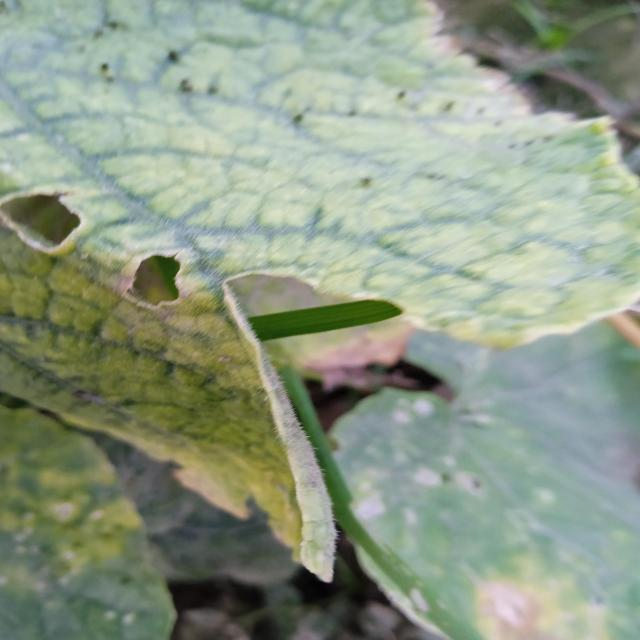cucumber_anthracnose: (8, 32, 606, 542)
